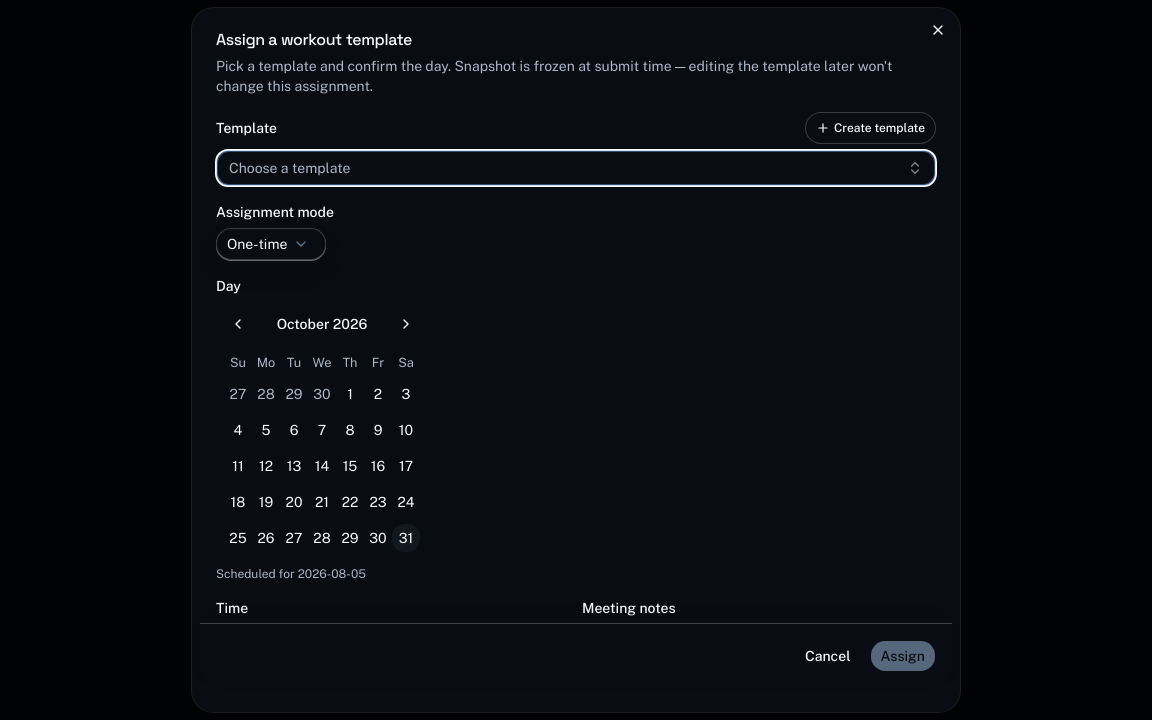
Test: AssignTemplateModal — the guard › keeps [Assign] disabled until a template is picked, and enables it after
Click the button "Assign" at [903, 656], box [870,640,936,672]
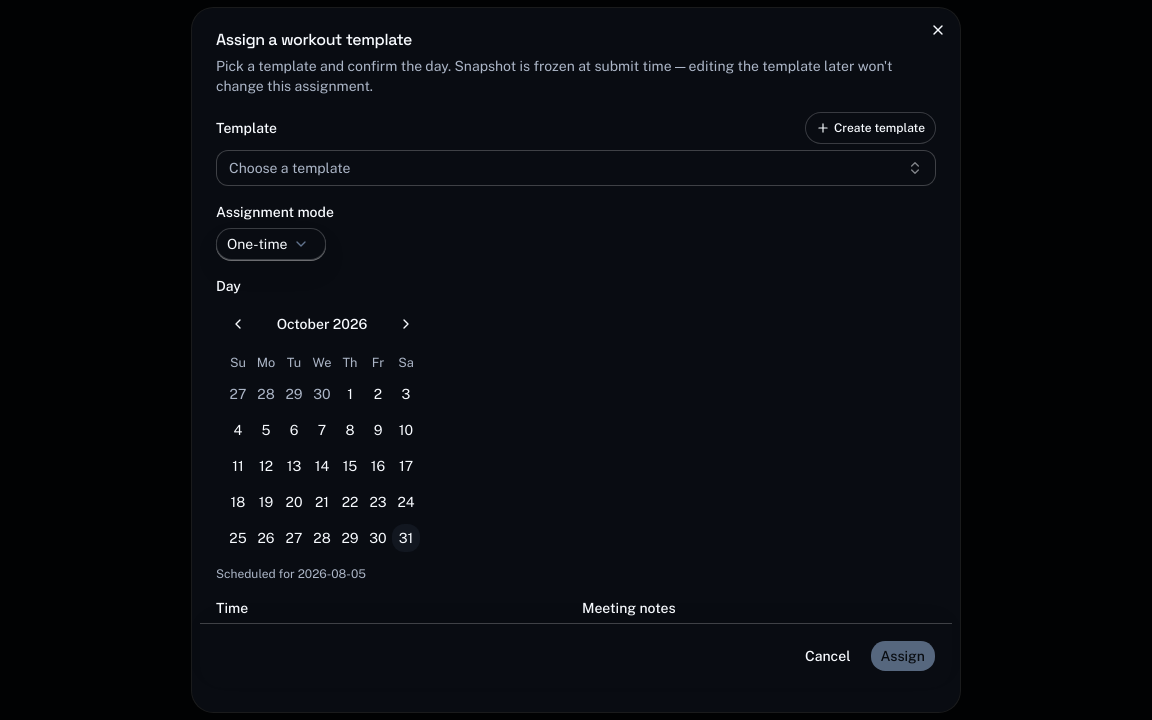
Click the dropdown labelled "Choose a template" at [290, 168], box [216,150,936,186]
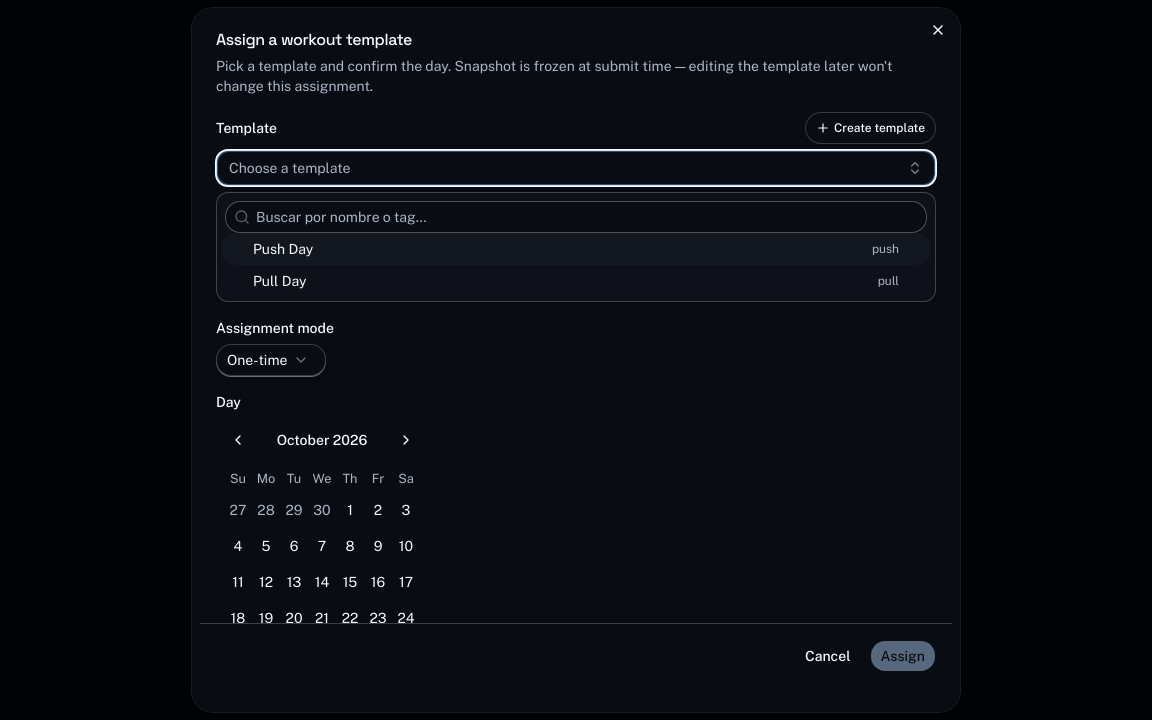
Click the text "Push Day" at [283, 249], box [253,241,313,257]
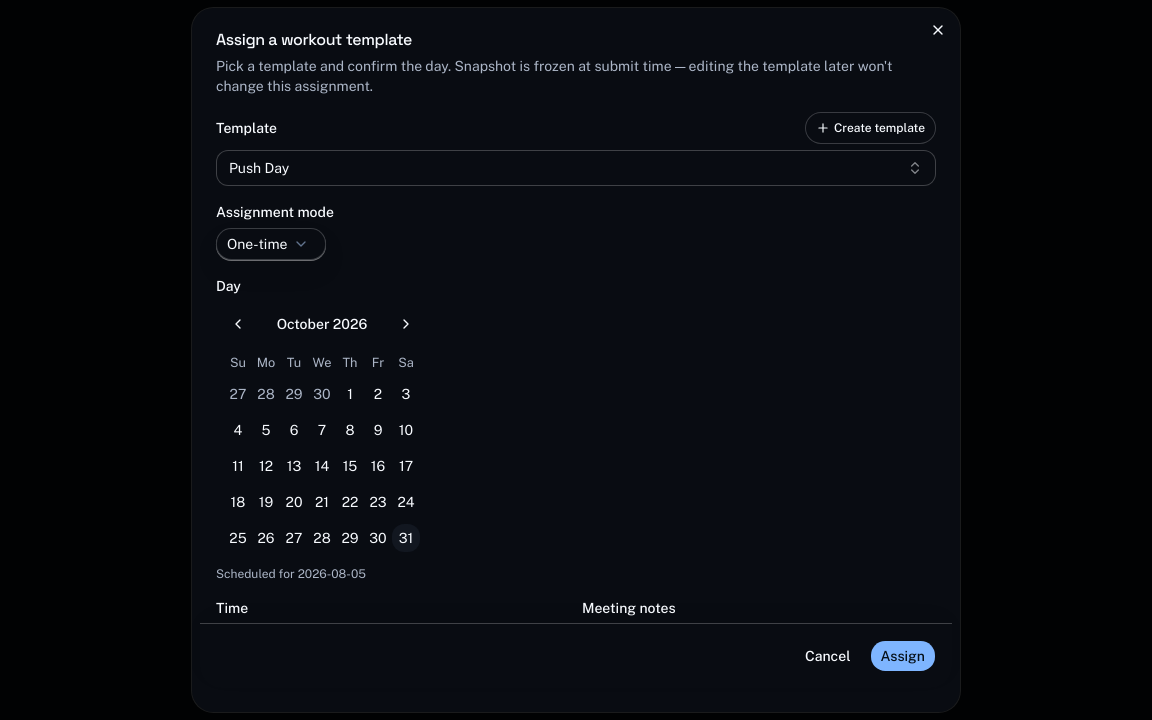
Check: the button "Assign" is enabled, box [870,640,936,672]
